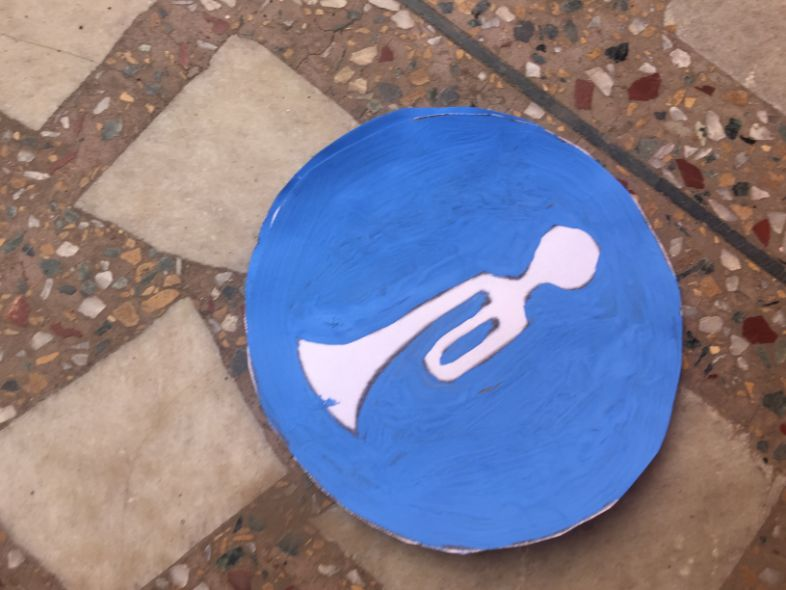blow-horn: (239, 115, 684, 558)
